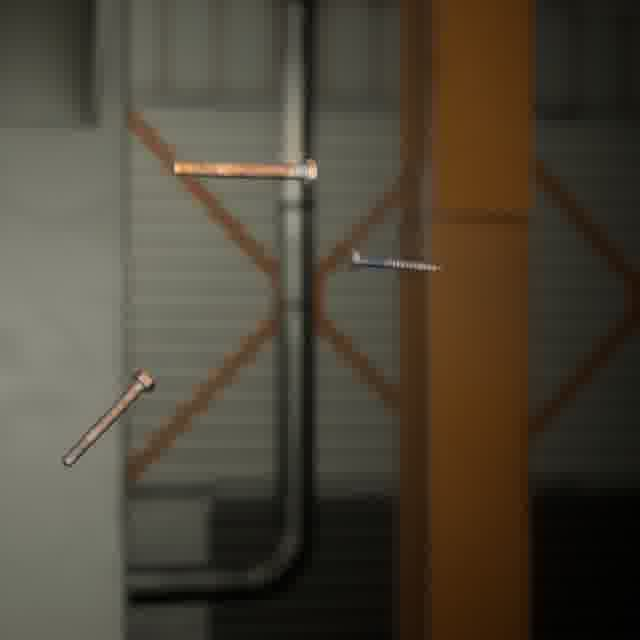bolt: (57, 365, 160, 472), (167, 154, 321, 190), (343, 244, 446, 277)
